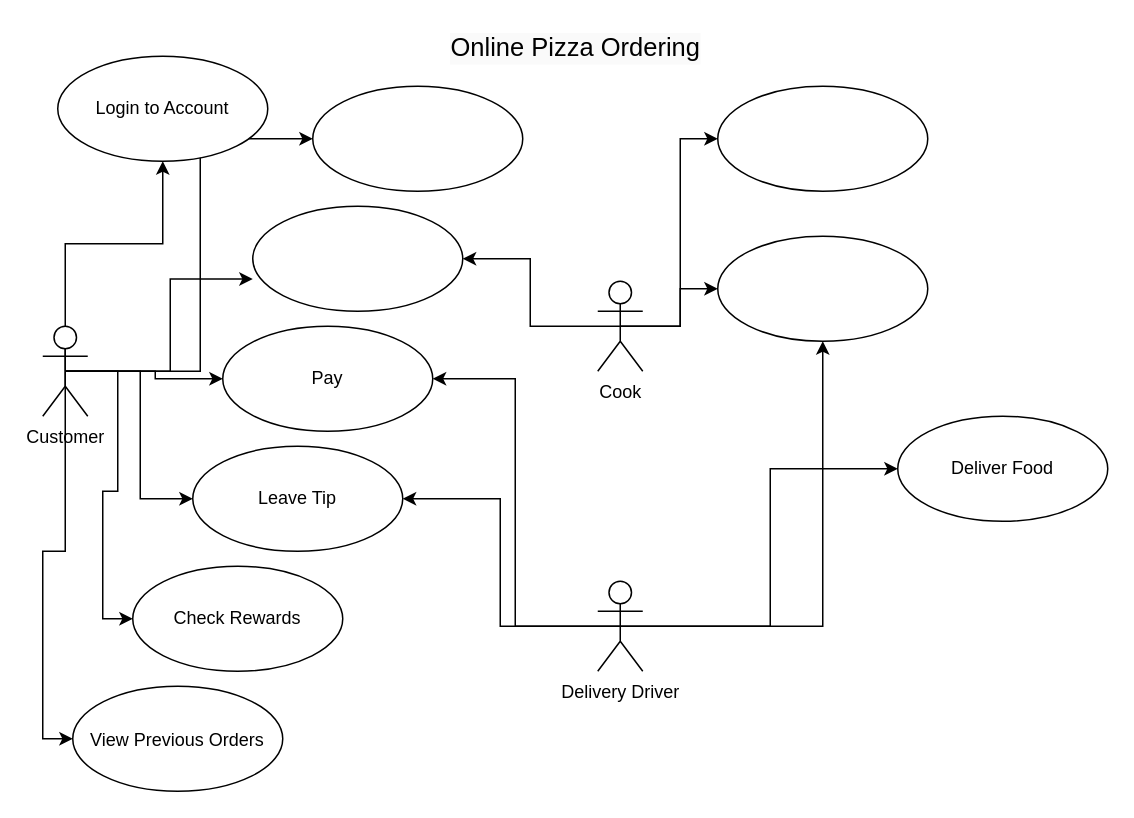
The diagram is 1134 pixels wide and 818 high, and some of its shapes have lost their labels. The centre of each missing label's shape, as x and y in pixels:
"Clean Kitchen" goes at pixel 822 138.
"Cook Food" goes at pixel 822 288.
"Place Order" goes at pixel 357 258.
"View Menu" goes at pixel 417 138.
